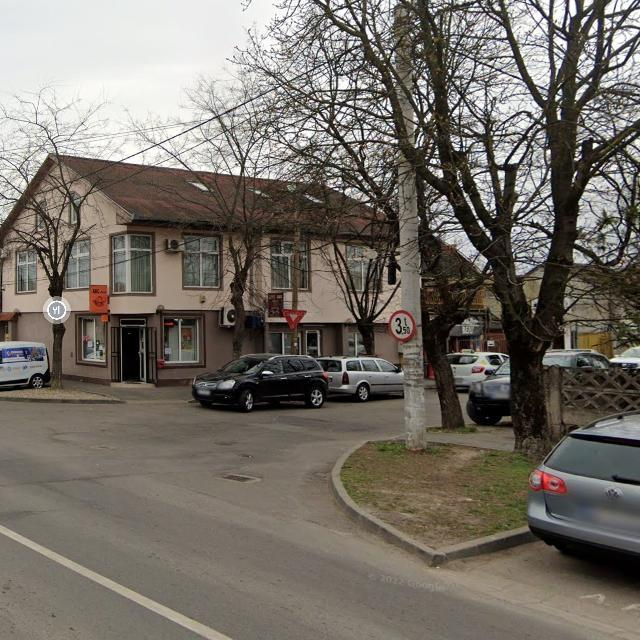prio_give_way: (283, 309, 307, 330)
